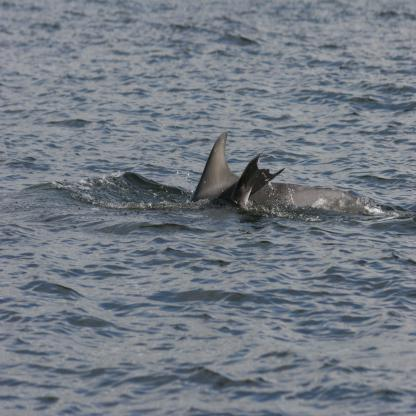dolphin-whale: (184, 129, 388, 218)
